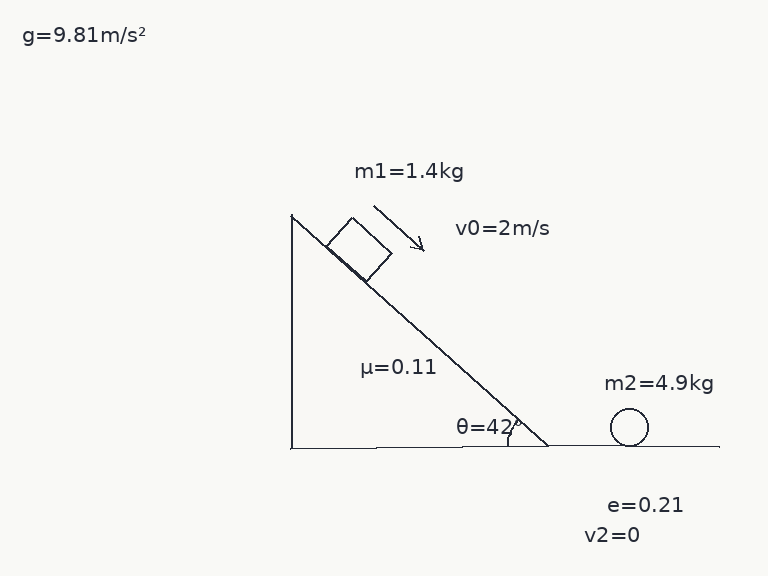ball: (608, 406, 650, 448)
block: (324, 215, 394, 284)
ramp: (289, 212, 550, 448)
